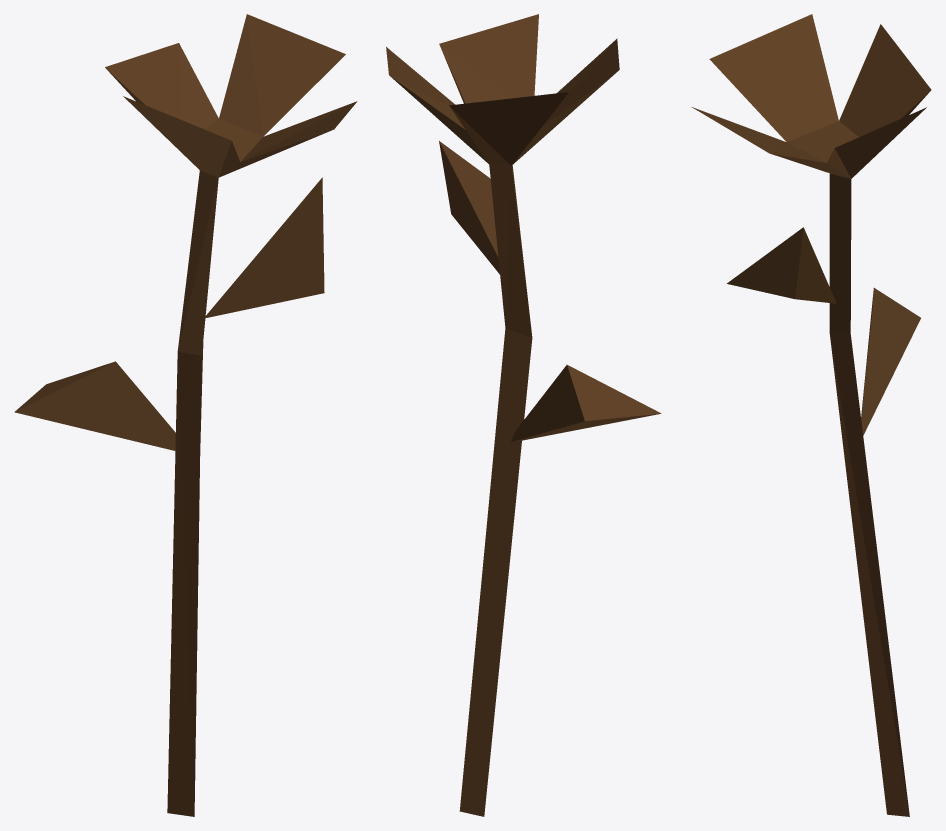
Rendered from SM_Flower_Daisy_Single_Mature_A.fbx.
The picture shows the model from 3 angles, left to right: view 1: azimuth 30°, elevation 25°; view 2: azimuth 150°, elevation 25°; view 3: azimuth 270°, elevation 25°; orthographic projection. The views are drawn at different scales.
Visible parts, largest first — view 1: flower-daisy-single-mature-a; view 2: flower-daisy-single-mature-a; view 3: flower-daisy-single-mature-a.
Boxes of the visible parts, x1=… form: flower-daisy-single-mature-a: x1=14, y1=14, x2=357, y2=816; flower-daisy-single-mature-a: x1=386, y1=14, x2=661, y2=816; flower-daisy-single-mature-a: x1=692, y1=14, x2=931, y2=816.
Size of the model in its own units: 0.1726 by 0.4108 by 0.12.
